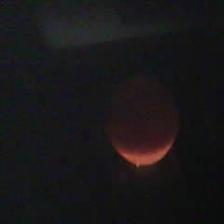fertile: (107, 65, 182, 167)
